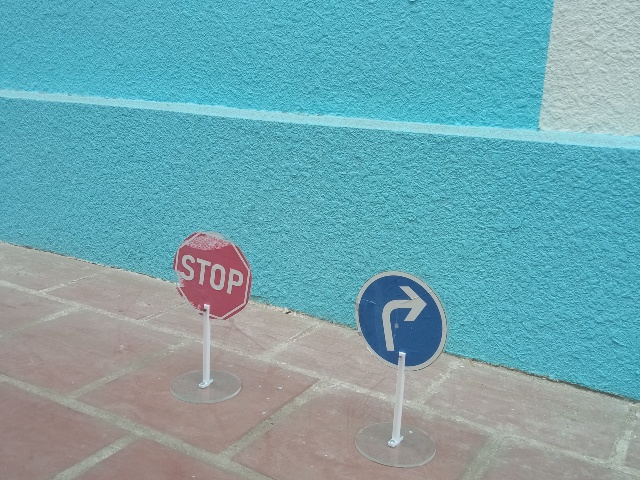Right_Sign: (355, 271, 449, 372)
Stop_Sign: (174, 230, 253, 320)
